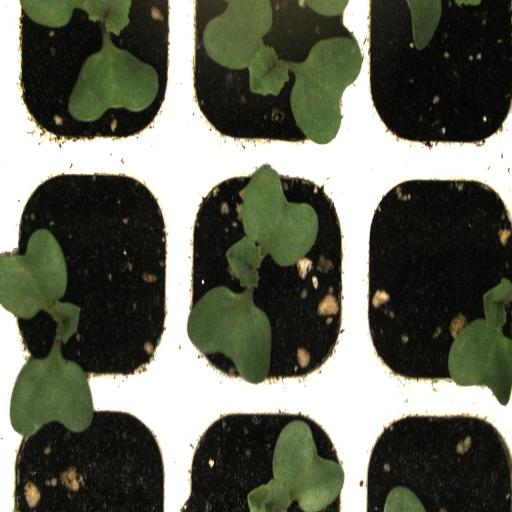seedling: (179, 155, 354, 389), (9, 148, 176, 389), (178, 0, 351, 150), (11, 0, 179, 153)
